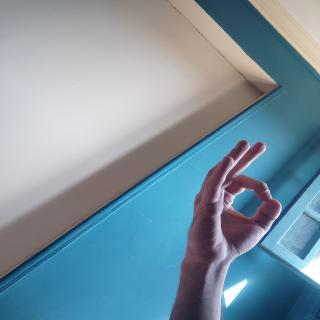Space: (186, 137, 290, 265)
